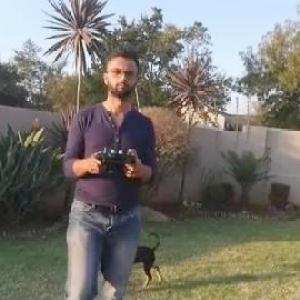follow: (54, 45, 152, 299)
